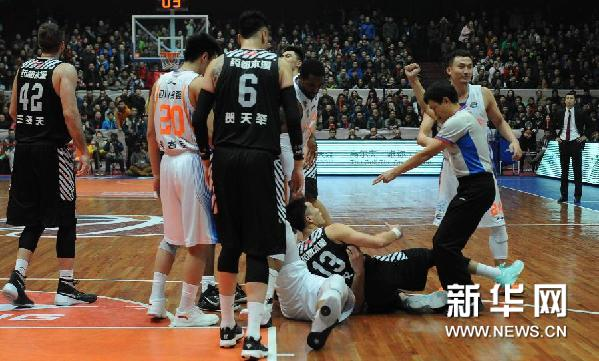10+: (1, 1, 599, 359)
down: (289, 194, 528, 300), (265, 257, 361, 357)
